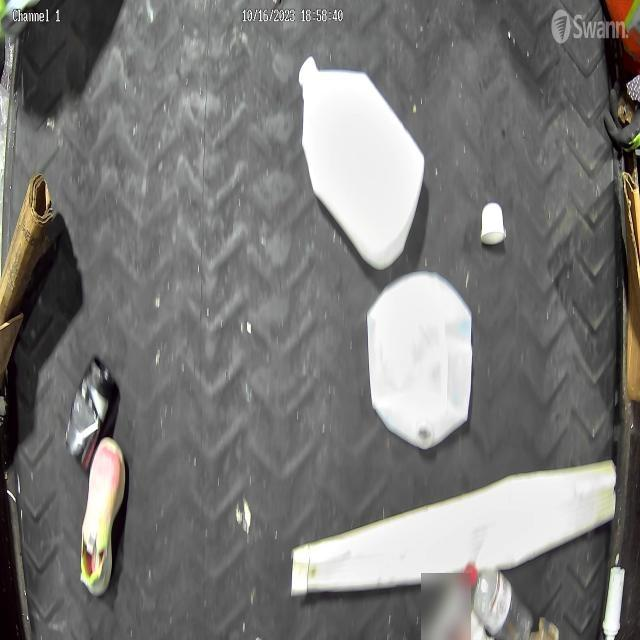milk_jug: (298, 50, 427, 272), (367, 273, 473, 452)
plastic_bottle: (463, 563, 533, 640)
